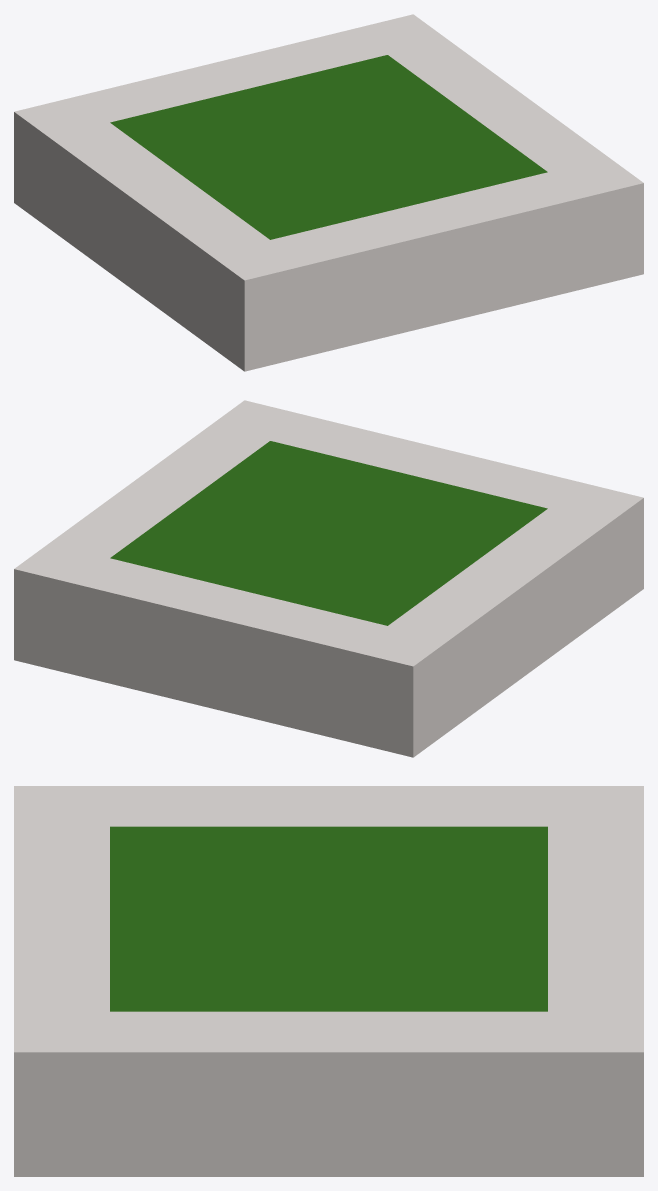
The model's file is block.FBX.
The picture shows the model from 3 angles, top to bottom: view 1: azimuth 30°, elevation 25°; view 2: azimuth 150°, elevation 25°; view 3: azimuth 270°, elevation 25°; orthographic projection. The views are drawn at different scales.
Visible parts, largest first — view 1: block; view 2: block; view 3: block.
Part boxes in pixels (x1,y1,x2,y2): block: (14, 14, 643, 371); block: (14, 400, 643, 757); block: (14, 786, 643, 1176).
Bounding box in the file's own units: 2.97 × 0.6485 × 2.97.
